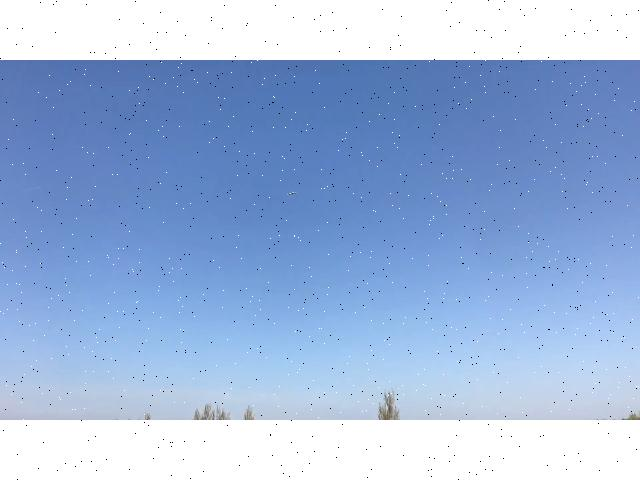Anti-Drone: (285, 183, 303, 203)
